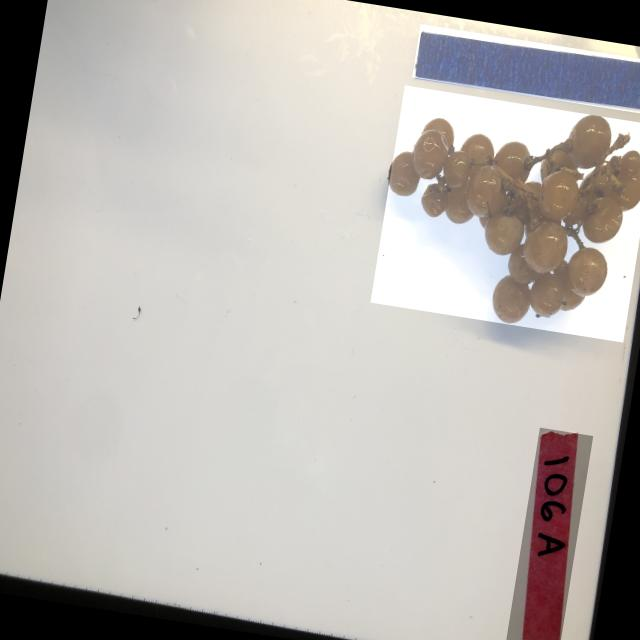grape_cluster: (369, 86, 640, 343)
index: (504, 427, 592, 640)
measure_label: (411, 24, 640, 115)
